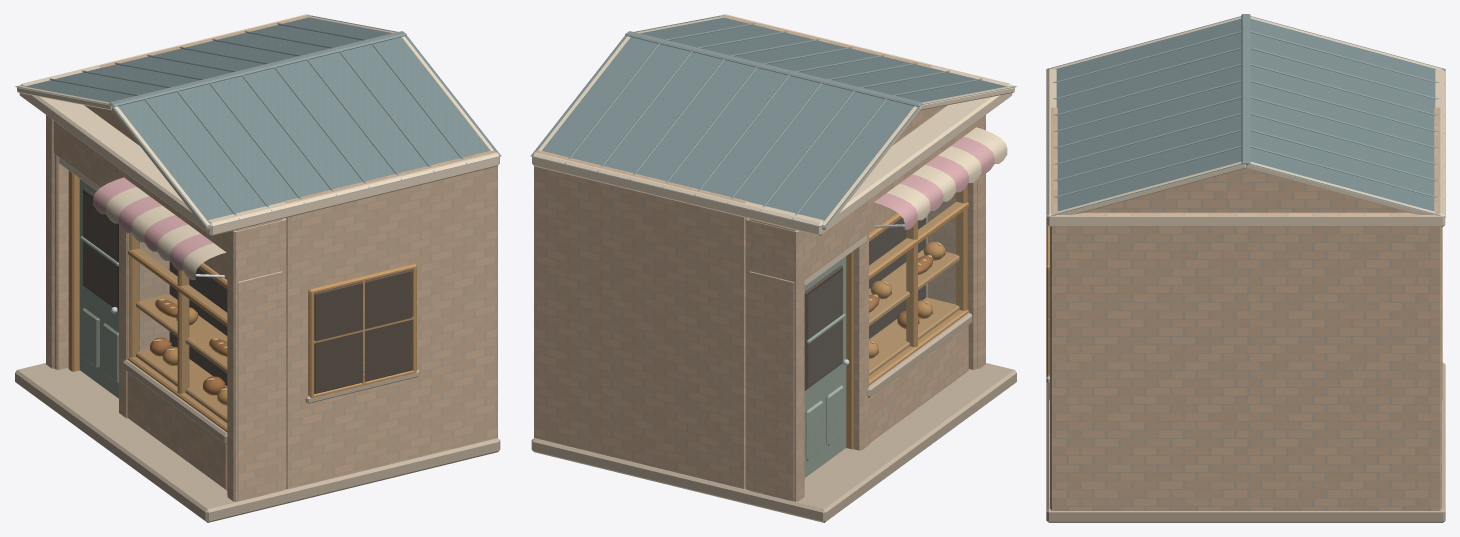
File: real_bakery.glb
The picture shows the model from 3 angles, left to right: view 1: azimuth 30°, elevation 25°; view 2: azimuth 150°, elevation 25°; view 3: azimuth 270°, elevation 25°; orthographic projection. The views are drawn at different scales.
Visible parts, largest first — view 1: Bakery walls, Standing-seam roof plane, Continuous stone base, Right facade pier, Standing-seam roof plane.001, Eave cornice, Side window reveal, Brick wall return, Striped woven canopy, Display apron, Center facade pier, Brick facade above windows (+21 smaller); view 2: Bakery walls, Standing-seam roof plane.001, Continuous stone base, Left facade pier, Standing-seam roof plane, Eave cornice, Brick wall return.001, Striped woven canopy, Display apron, Door glass recess, Right facade pier, Brick facade above windows (+17 smaller); view 3: Bakery walls, Standing-seam roof plane, Standing-seam roof plane.001, Brick gable.001, Eave cornice, Continuous stone base, Roof ridge cap, Gable fascia.002, Gable fascia.003, Gable fascia, Gable fascia.001, Raised standing seam.001 (+15 smaller).
Part boxes in pixels (x1,y1,x2,y2): Bakery walls: (99, 14, 497, 488); Standing-seam roof plane: (112, 35, 501, 227); Continuous stone base: (15, 363, 500, 522); Right facade pier: (227, 271, 282, 501); Standing-seam roof plane.001: (15, 15, 397, 104); Eave cornice: (19, 14, 499, 235); Side window reveal: (314, 270, 412, 393); Brick wall return: (227, 218, 286, 501); Striped woven canopy: (93, 177, 226, 279); Display apron: (127, 372, 227, 490); Center facade pier: (119, 224, 169, 418); Brick facade above windows: (54, 121, 282, 279); Bakery walls: (534, 14, 932, 488); Standing-seam roof plane.001: (530, 35, 919, 227); Continuous stone base: (531, 363, 1016, 522); Left facade pier: (749, 271, 804, 501); Standing-seam roof plane: (634, 15, 1016, 104); Eave cornice: (532, 14, 1012, 235); Brick wall return.001: (745, 218, 804, 501); Striped woven canopy: (874, 127, 1007, 229); Display apron: (869, 325, 968, 443); Door glass recess: (804, 265, 842, 390); Right facade pier: (928, 180, 977, 369); Brick facade above windows: (749, 121, 977, 279); Bakery walls: (1050, 107, 1441, 510); Standing-seam roof plane: (1046, 16, 1242, 217); Standing-seam roof plane.001: (1249, 16, 1445, 217); Brick gable.001: (1083, 168, 1408, 212); Eave cornice: (1046, 69, 1445, 227); Continuous stone base: (1046, 362, 1445, 522); Roof ridge cap: (1241, 14, 1250, 164); Gable fascia.002: (1056, 162, 1245, 214); Gable fascia.003: (1246, 162, 1435, 214); Gable fascia: (1050, 17, 1241, 69); Gable fascia.001: (1250, 17, 1441, 69); Raised standing seam.001: (1047, 47, 1241, 100).
Bounding box in the file's own units: 3 × 3.4 × 3.4.
15 materials, 15 textured.
